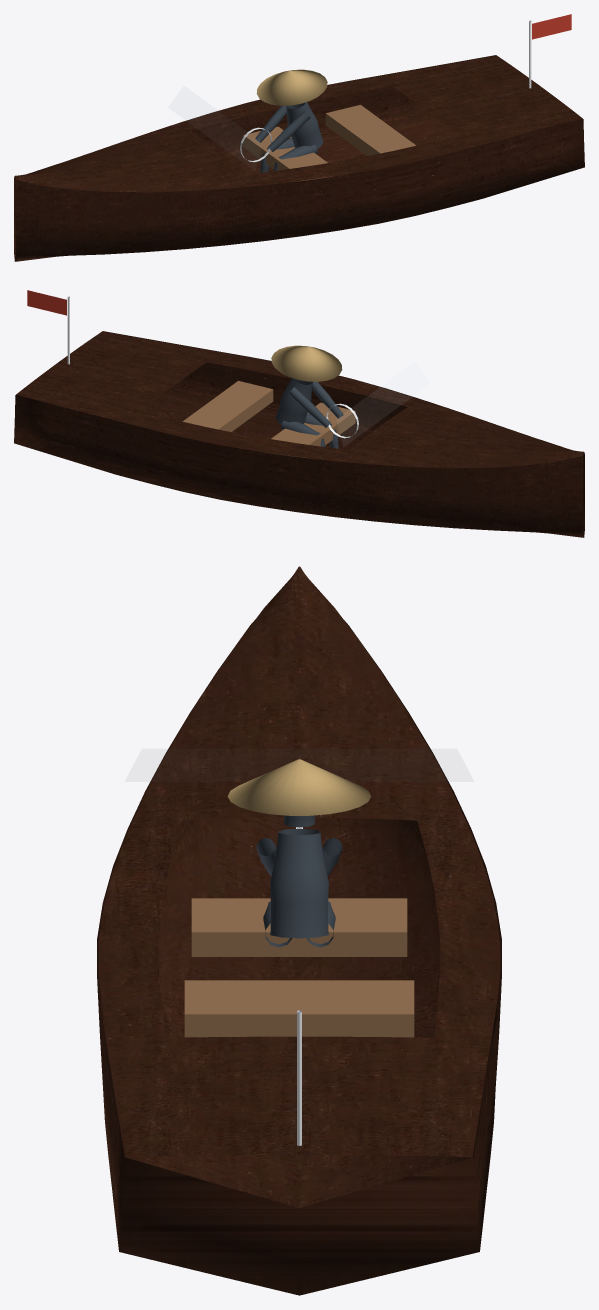
The model's file is hl-boat.glb.
3 renders of one model, top to bottom at view 1: azimuth 30°, elevation 25°; view 2: azimuth 150°, elevation 25°; view 3: azimuth 270°, elevation 25°, orthographic. The views are drawn at different scales.
Parts seen in each view (by area): view 1: HeroBoat, BoatFlag; view 2: HeroBoat, BoatFlag; view 3: HeroBoat.
Boxes of the visible parts, x1,y1,x2,y2 form: HeroBoat: (14,20,584,261); BoatFlag: (532,14,571,39); HeroBoat: (14,296,584,537); BoatFlag: (27,290,66,315); HeroBoat: (97,566,501,1295).
Bounding box in the file's own units: 5.73 × 1.54 × 1.8.
Materials: 7 (1 with a texture image).
